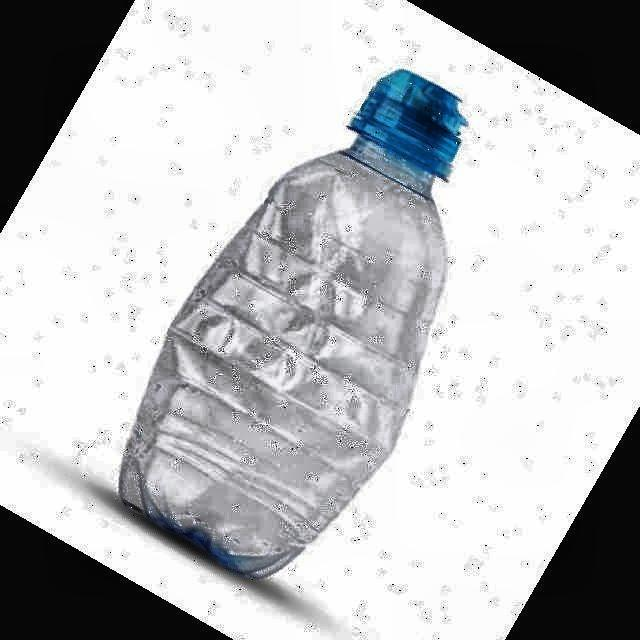plastic: (120, 71, 465, 577)
